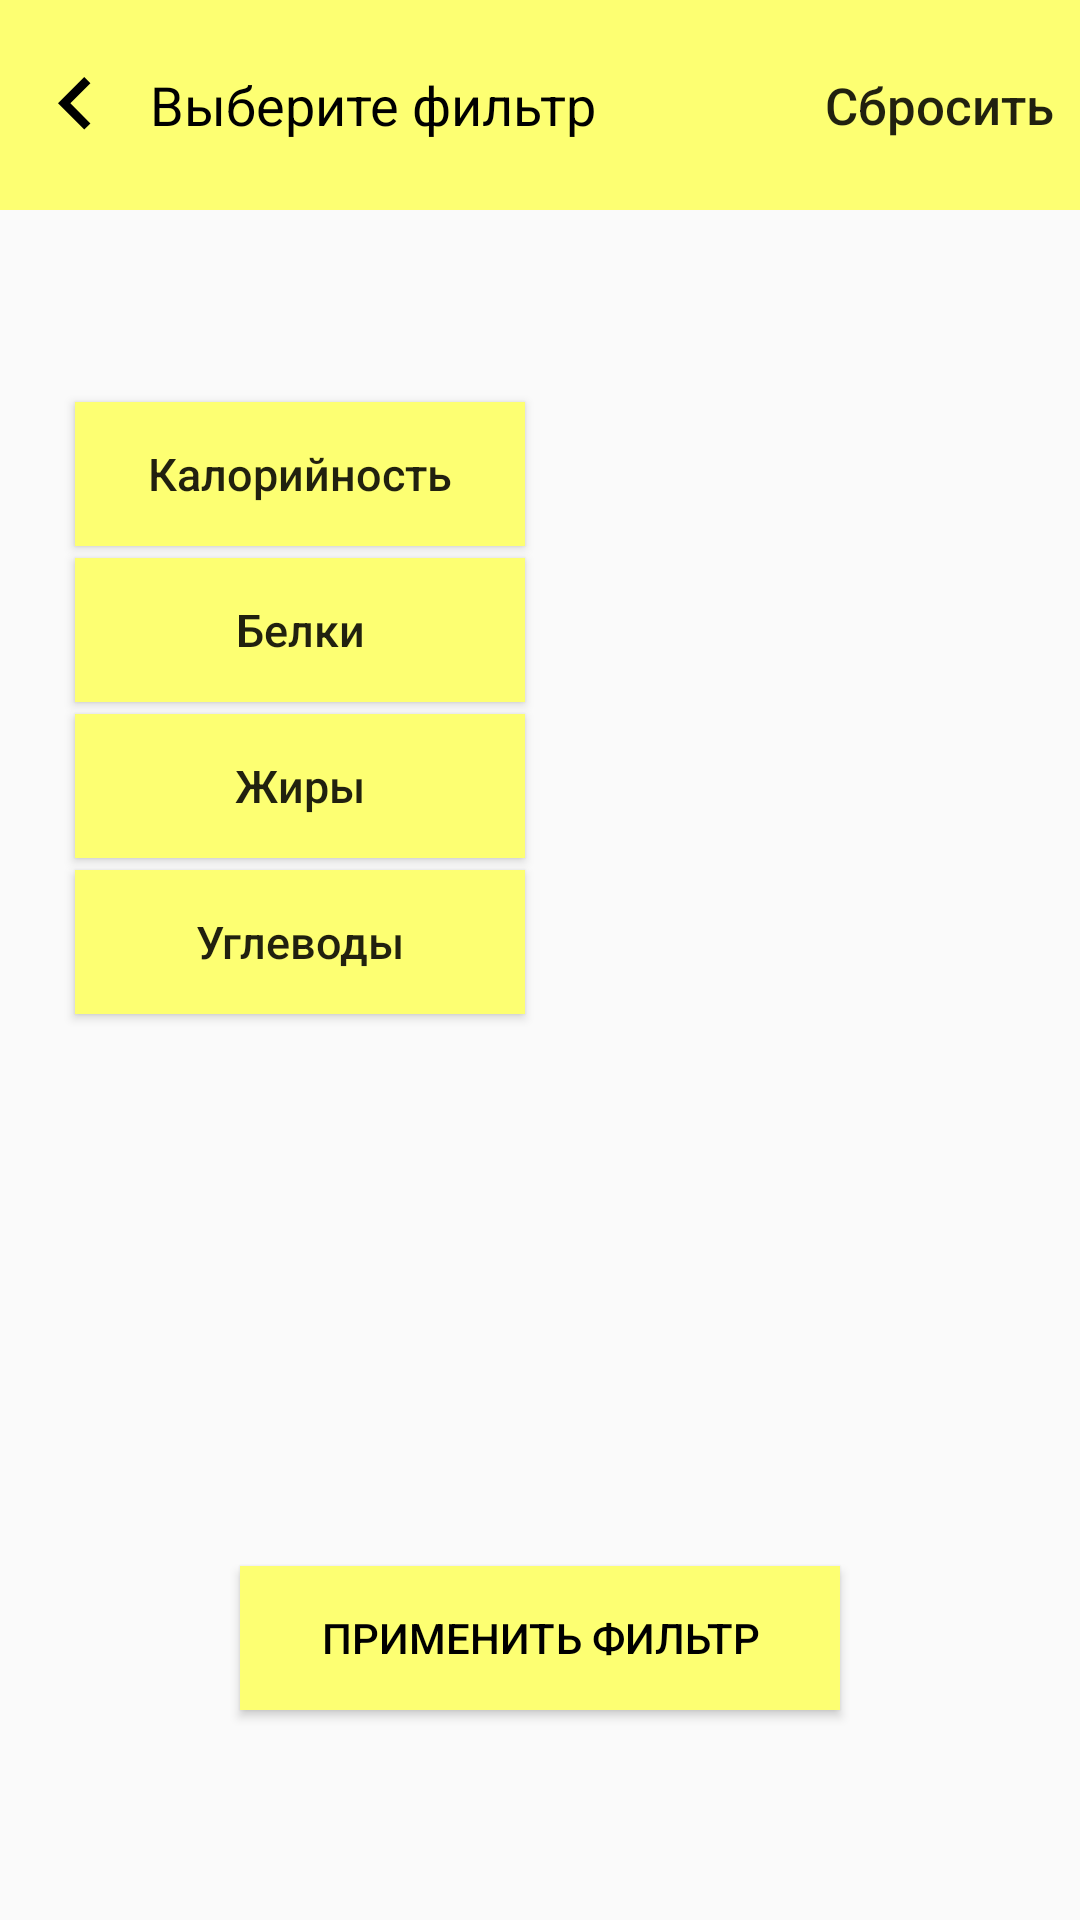

Screen size 1080px x 1920px. Icon name, then its box in pixels as {"x1": x1, "y1": y1, "x2": x2, "y2": y2}:
arrow left: {"x1": 58, "y1": 77, "x2": 91, "y2": 130}
